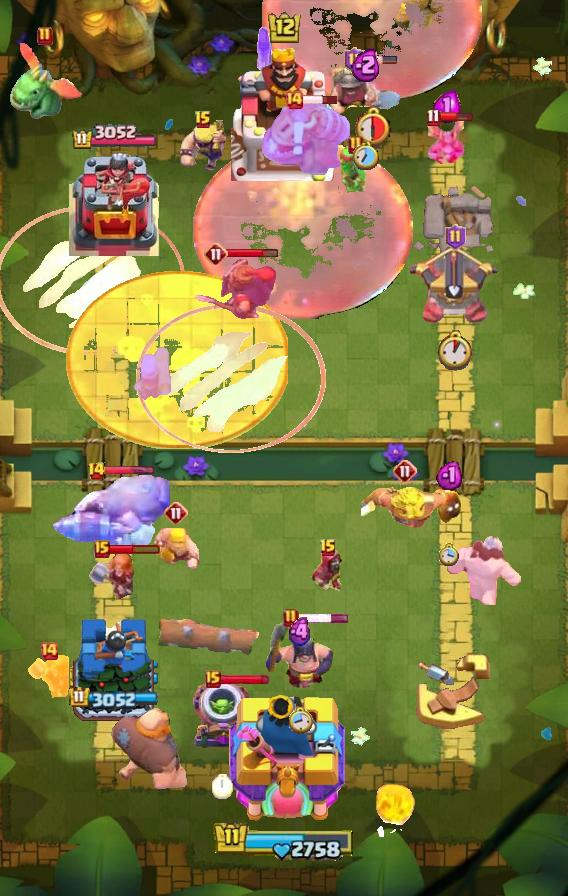archer: (153, 528, 199, 570)
arrows: (177, 120, 229, 170)
balloon: (109, 707, 189, 795)
bandit: (330, 59, 402, 125)
bomber: (435, 487, 463, 525)
bowler: (310, 546, 346, 594)
clock: (213, 821, 355, 862)
electro-spirit: (351, 47, 381, 82), (433, 90, 461, 123), (286, 617, 314, 647), (436, 459, 462, 490)
electro-wizard: (5, 39, 85, 121)
elixir: (351, 104, 391, 148), (437, 329, 476, 371), (353, 142, 379, 170), (288, 707, 312, 735), (211, 773, 233, 798), (439, 542, 460, 566)
elixir-golem-big: (189, 257, 277, 323)
emote: (218, 674, 269, 687), (107, 543, 160, 555), (225, 248, 279, 259), (298, 612, 351, 623), (103, 465, 155, 476), (301, 94, 338, 106), (438, 111, 474, 123), (362, 55, 398, 65)
giant-snowball: (337, 144, 375, 196)
goblin: (255, 27, 275, 77)
goblin-cage: (190, 681, 254, 751)
goblin-hut: (361, 484, 449, 530)
hog-rider: (86, 552, 136, 600), (26, 654, 72, 700)
ice-wizard: (136, 303, 326, 453), (0, 205, 184, 355)
king-tower: (223, 689, 345, 826), (231, 45, 337, 181)
lava-pup: (409, 243, 501, 325)
minion: (153, 614, 259, 660)
monk: (265, 616, 335, 692)
night-witch: (258, 101, 352, 175)
phoenix-egg: (191, 139, 413, 319), (66, 271, 288, 449), (262, 0, 483, 104)
queen-tower: (70, 616, 158, 731), (69, 152, 159, 256)
rage: (447, 535, 521, 605)
royal-delivery: (426, 117, 468, 165)
selected: (70, 125, 157, 152), (69, 686, 159, 710)
text: (204, 242, 228, 266), (393, 459, 417, 483), (164, 501, 188, 525), (343, 47, 364, 73), (446, 224, 467, 250), (284, 90, 304, 110), (86, 461, 106, 481), (39, 641, 59, 661), (194, 110, 212, 130), (319, 538, 337, 558), (37, 26, 53, 46), (348, 135, 364, 155), (283, 608, 299, 628), (94, 540, 110, 558), (205, 670, 221, 688), (427, 108, 442, 127)
tombstone: (131, 344, 173, 402)
valkyrie: (371, 777, 419, 837)
wizard: (48, 470, 174, 548)
